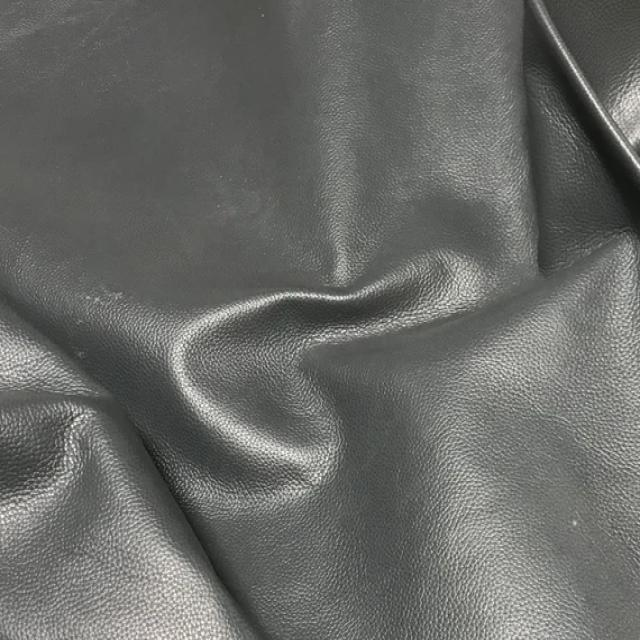Crease: (338, 279, 596, 492), (108, 268, 314, 514), (262, 11, 448, 257)
